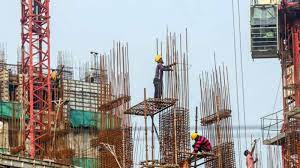arm: (157, 61, 176, 72)
helmet: (190, 130, 201, 140), (154, 53, 164, 63)
human: (150, 51, 168, 96), (187, 128, 213, 158)
leg: (152, 78, 159, 97)
vest: (193, 134, 212, 151), (153, 61, 164, 79)
